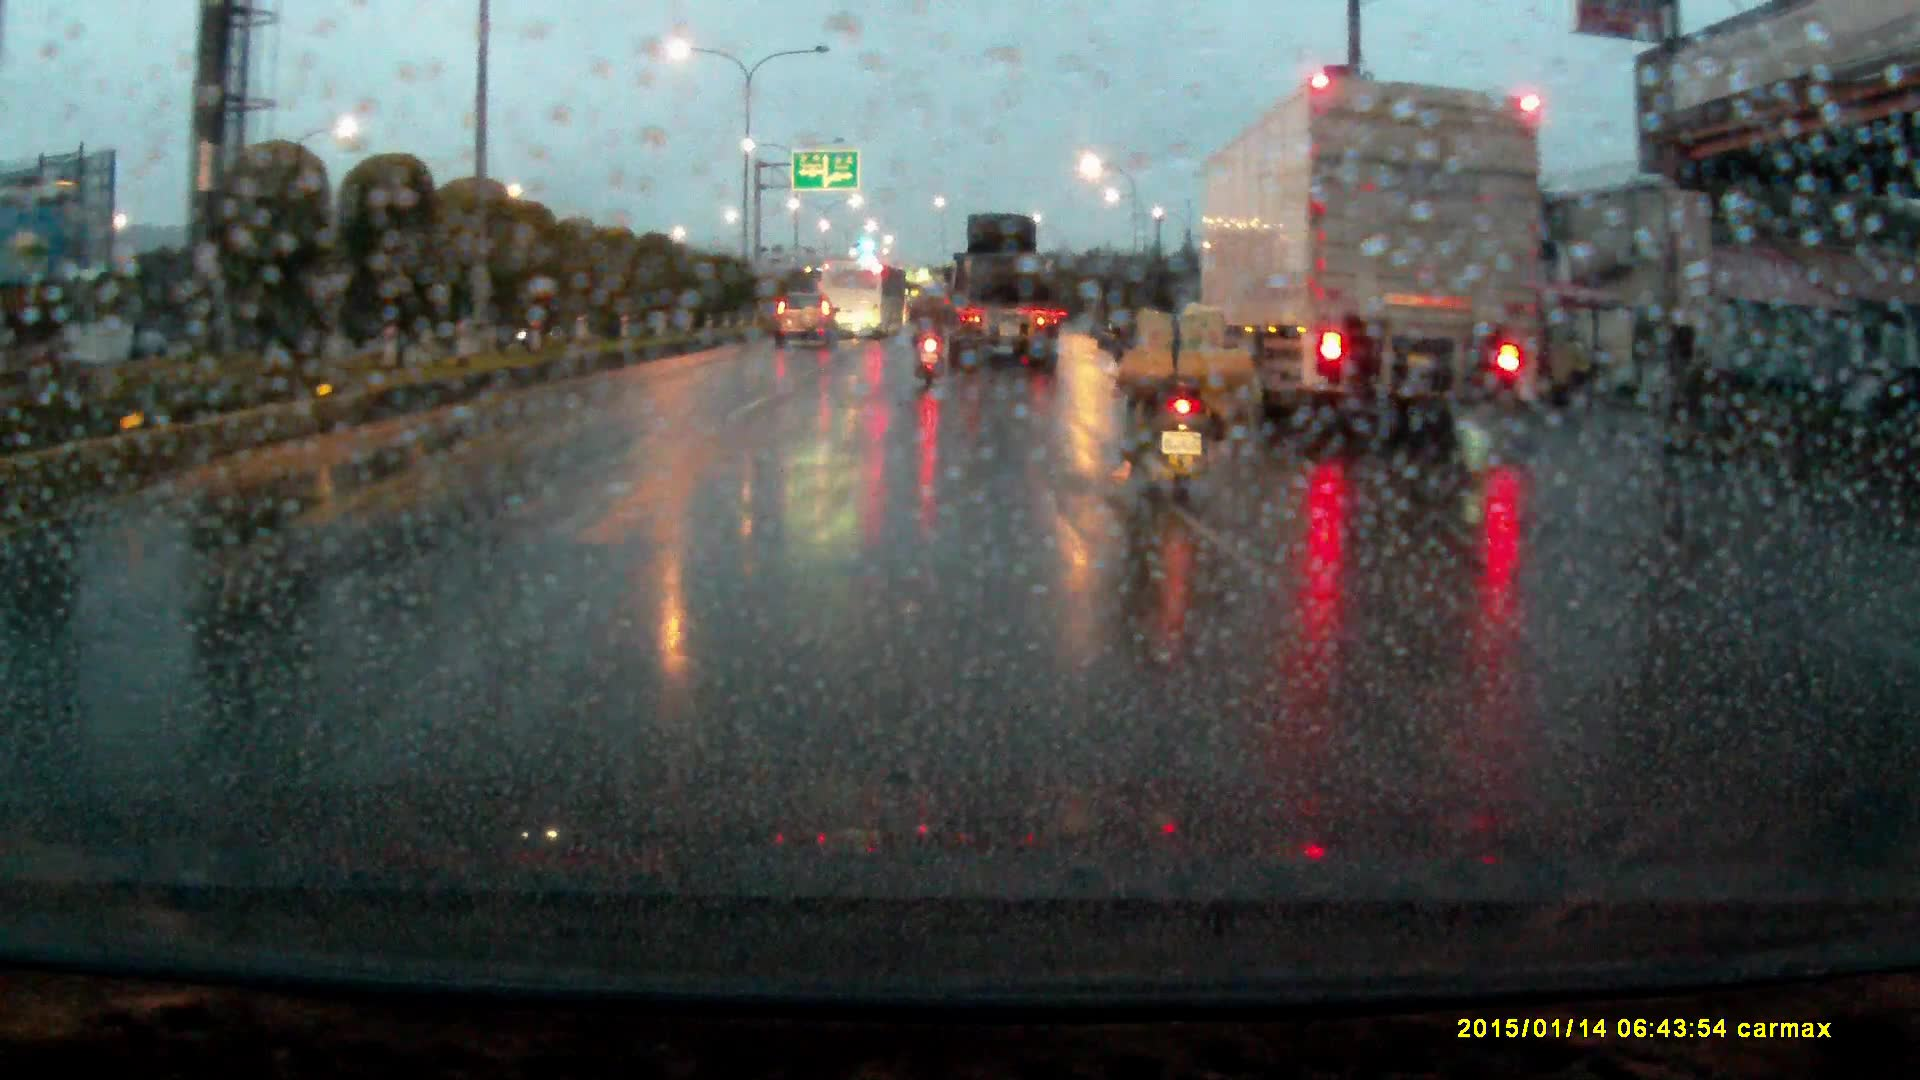rider: (1111, 253, 1247, 523), (912, 286, 953, 388)
vehicle: (1189, 73, 1549, 440), (938, 216, 1061, 373), (820, 260, 888, 339), (774, 294, 842, 355)
